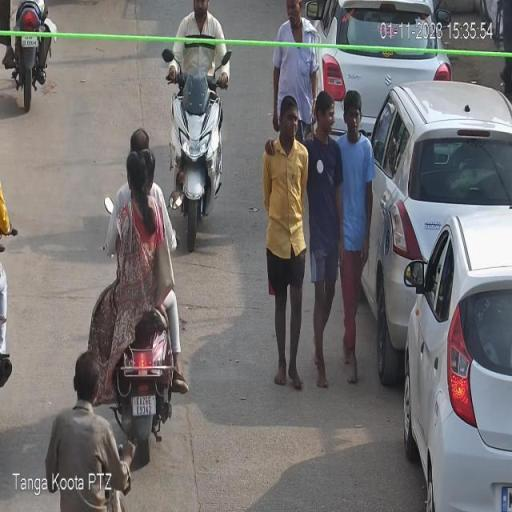tripple riding: (96, 124, 182, 329)
